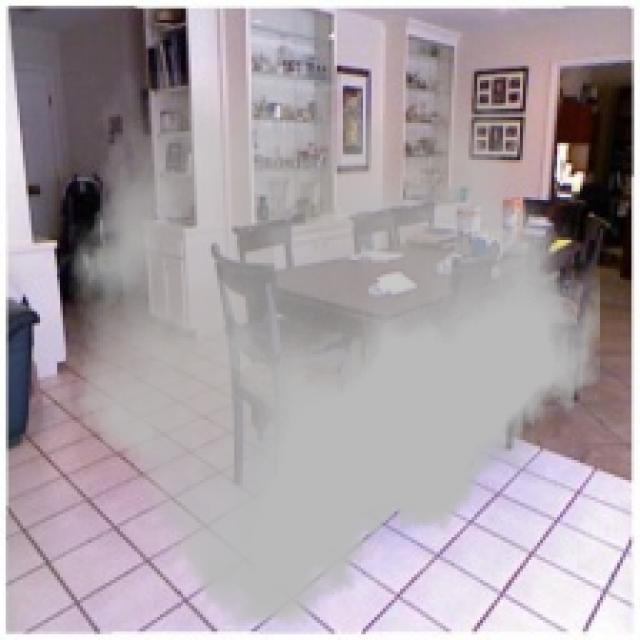smoke: (69, 71, 600, 626)
